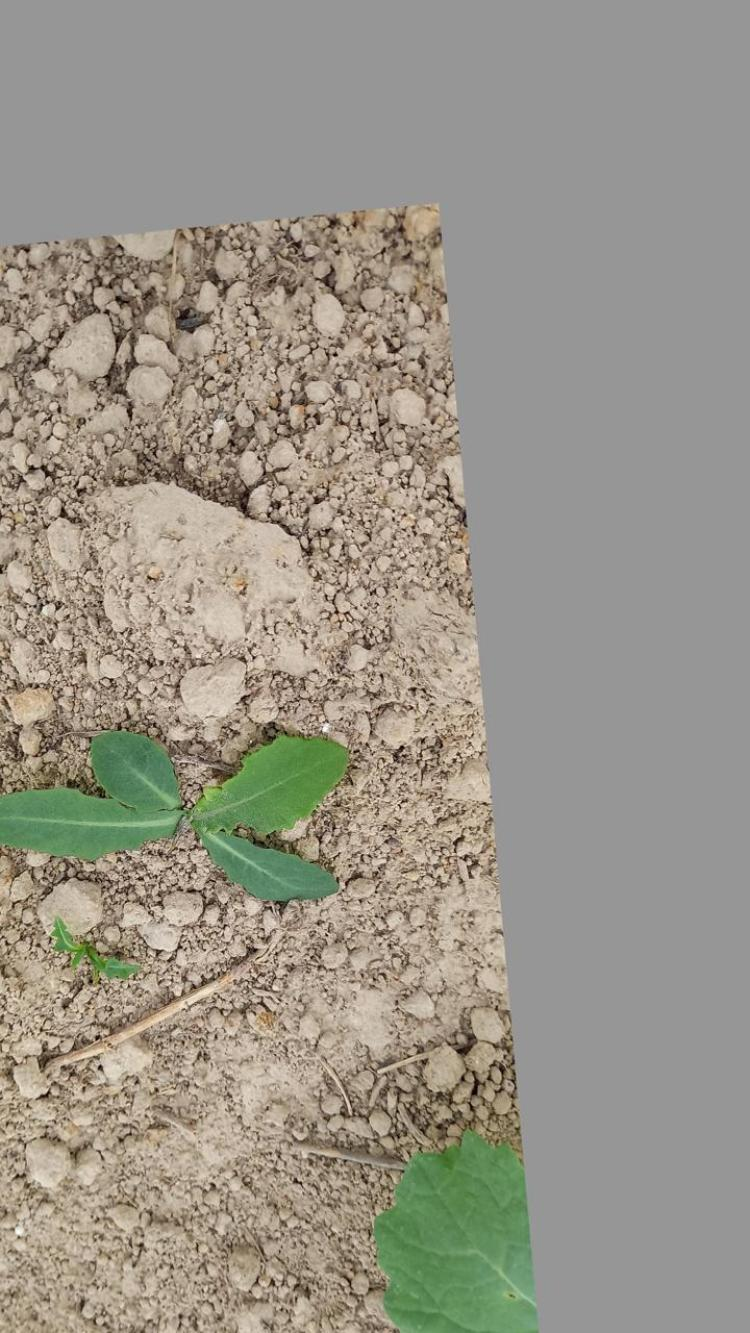bodyak: (0, 722, 352, 918)
